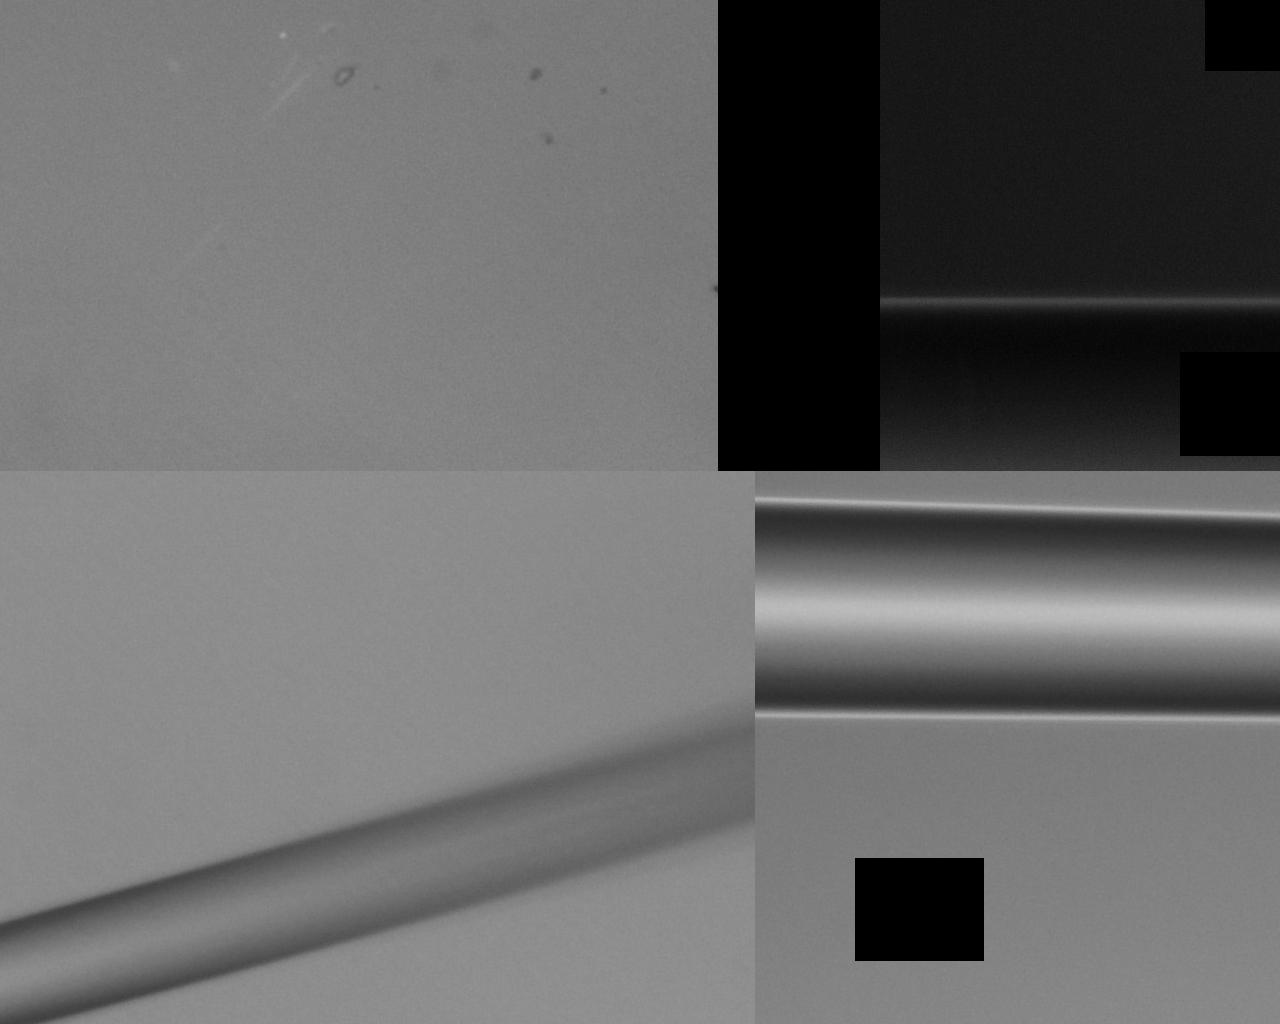fiber: (0, 703, 755, 1024), (755, 498, 1280, 723), (879, 298, 1280, 471)
